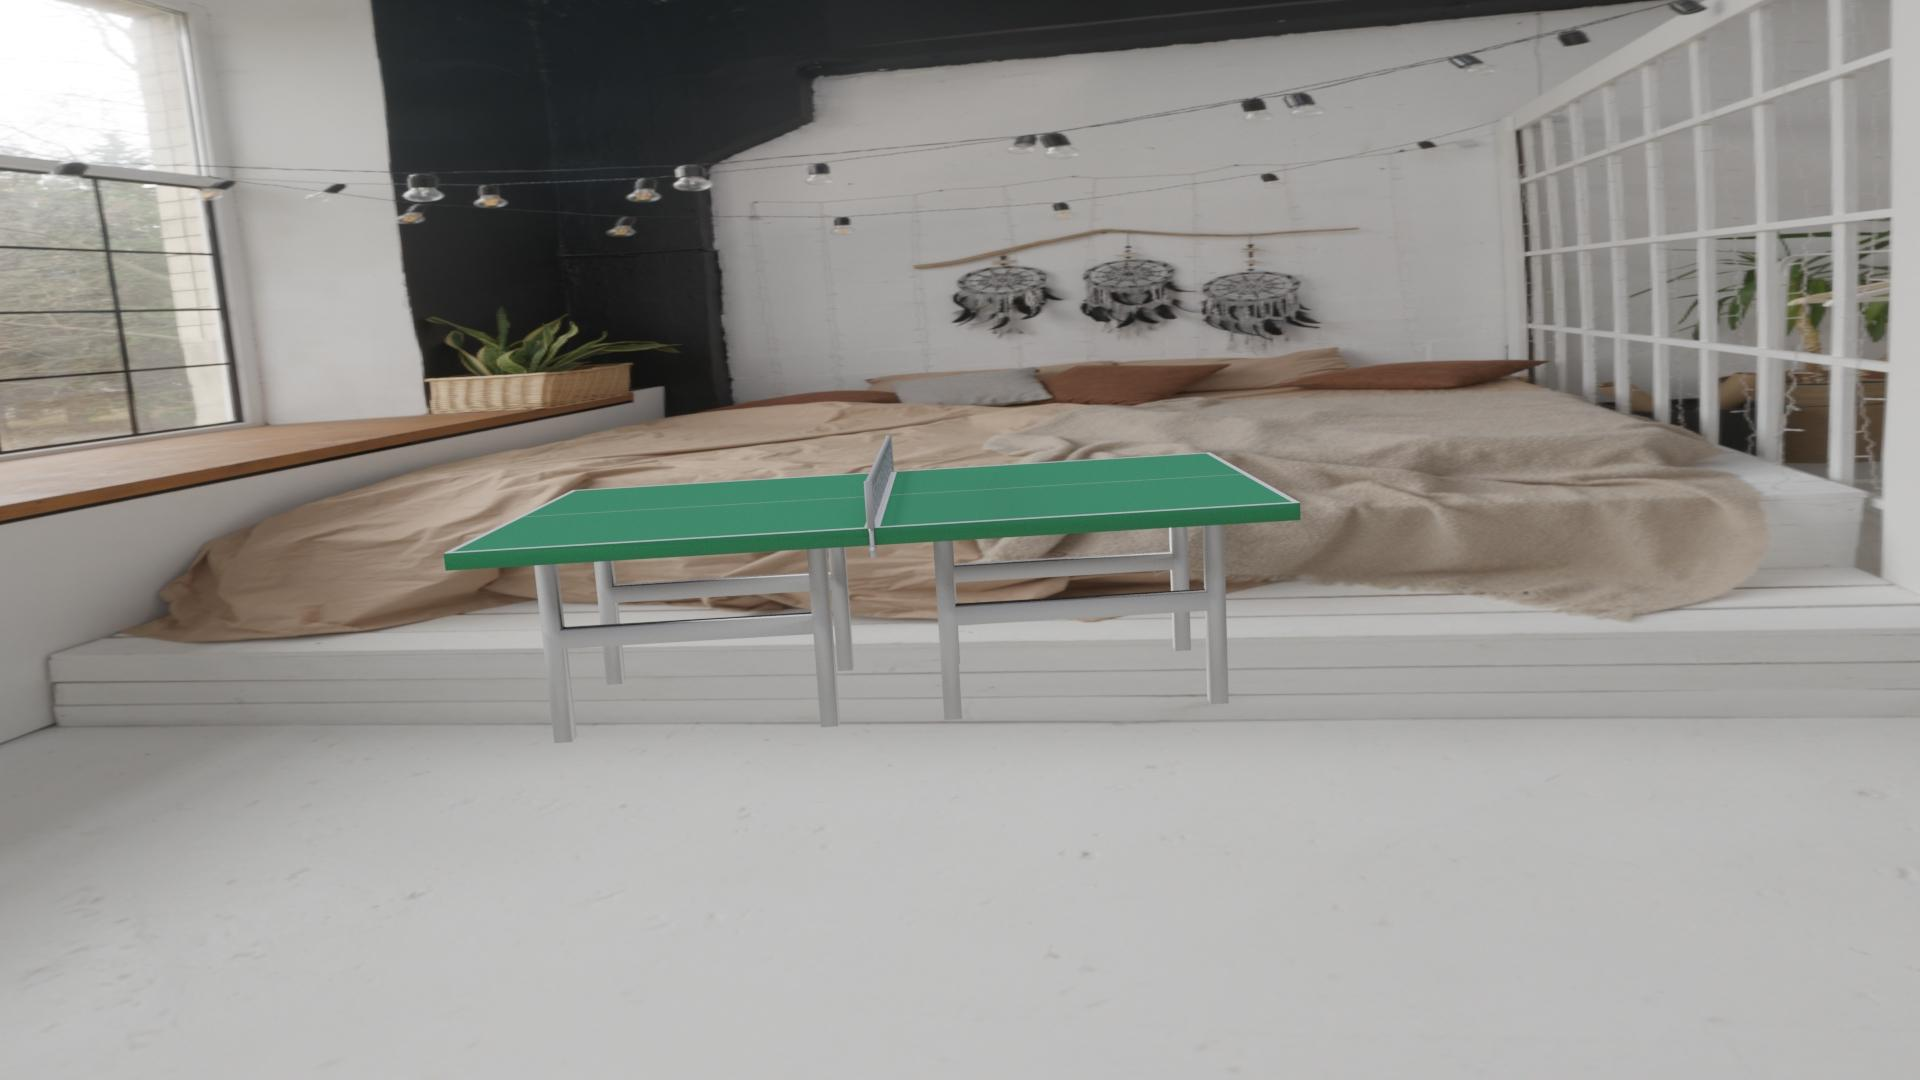table: (452, 454, 1292, 553)
